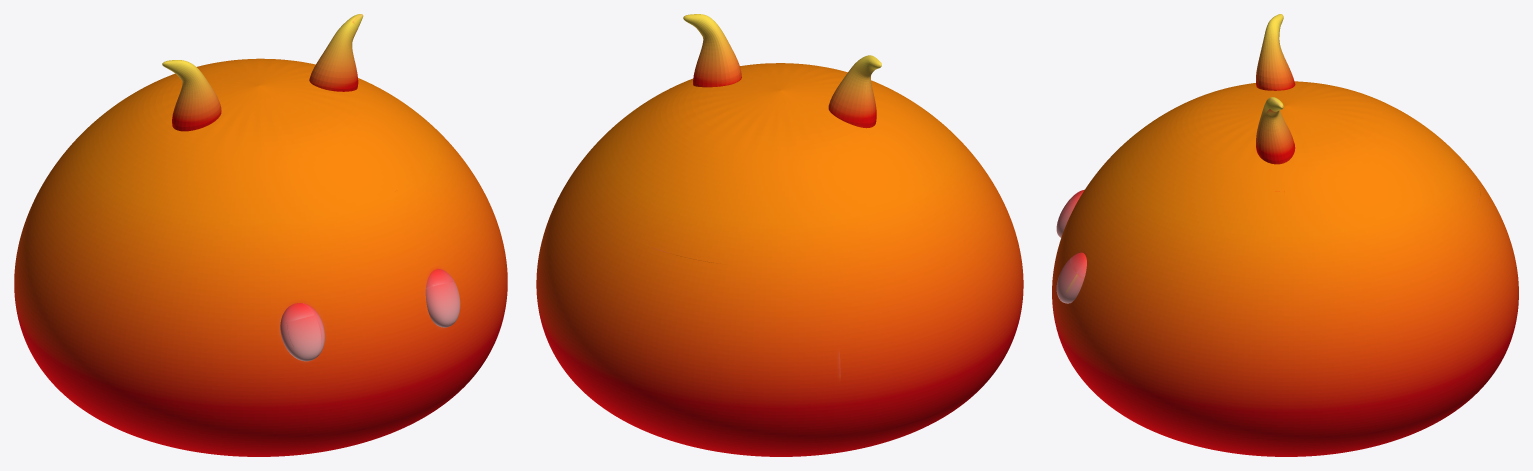
Rendered from slime_2.fbx.
3 renders of one model, left to right at view 1: azimuth 30°, elevation 25°; view 2: azimuth 150°, elevation 25°; view 3: azimuth 270°, elevation 25°, orthographic. The views are drawn at different scales.
Parts seen in each view (by area): view 1: Baked; view 2: Baked; view 3: Baked.
Part boxes in pixels (x1,y1,x2,y2): Baked: (14,14,507,456); Baked: (536,14,1023,456); Baked: (1052,14,1518,456).
Bounding box in the file's own units: 197 × 165 × 197.
1 material, 1 textured.
